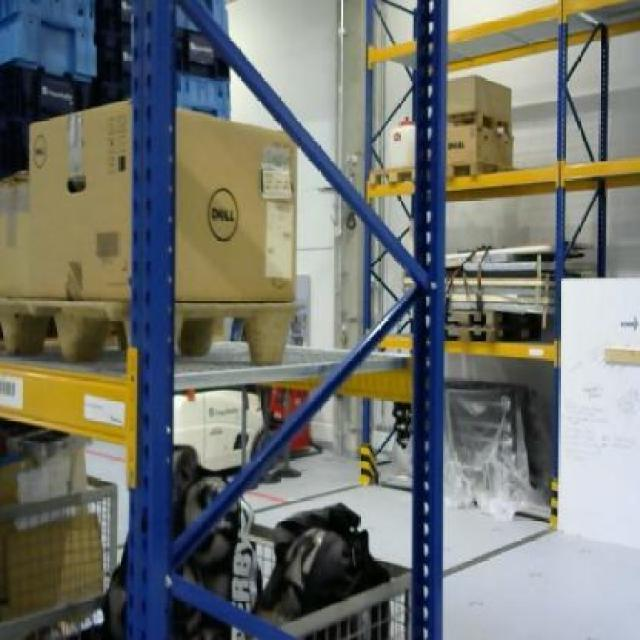box: (21, 98, 294, 297), (448, 71, 514, 124), (447, 126, 515, 169)
